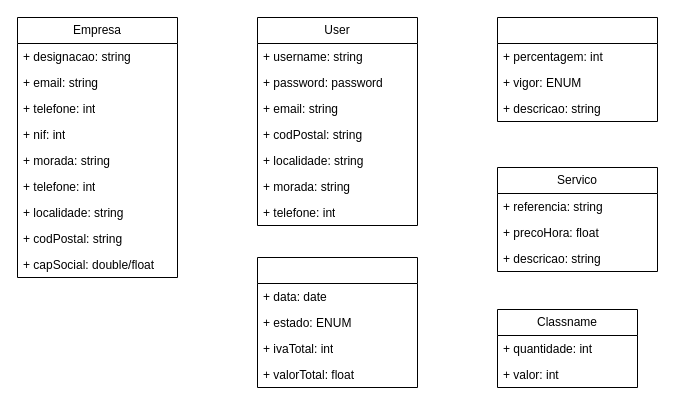
Some shapes in this 675 by 408 pixel diagram are drawn without their labels. The box of each missing label's shape, as (x1, y1, x2, y2) in pixels:
FolhaObra: (256, 256, 418, 388)
Iva: (496, 16, 658, 122)
